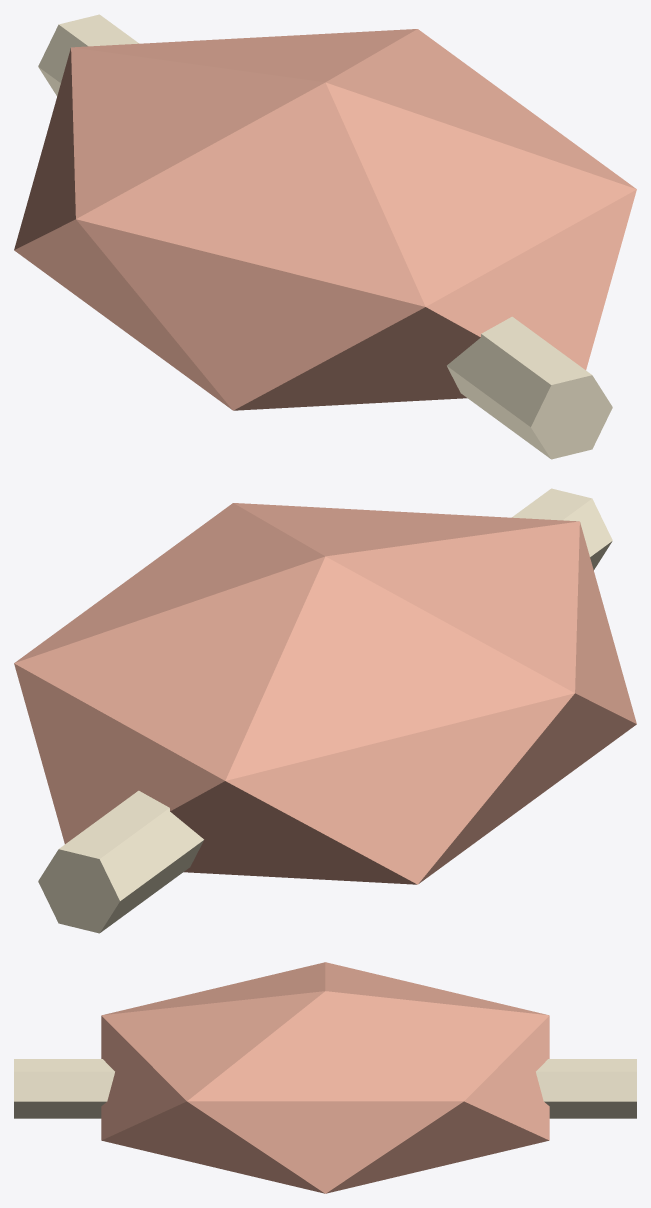
File: FishMeat.fbx
3 renders of one model, top to bottom at view 1: azimuth 30°, elevation 25°; view 2: azimuth 150°, elevation 25°; view 3: azimuth 270°, elevation 25°, orthographic. The views are drawn at different scales.
Visible parts, largest first — view 1: MeatChunk, Bone; view 2: MeatChunk, Bone; view 3: MeatChunk, Bone.
Part boxes in pixels (box(x1,y1,x2,y2)): MeatChunk: box(14, 29, 636, 410); Bone: box(38, 14, 612, 459); MeatChunk: box(14, 503, 636, 884); Bone: box(38, 488, 612, 933); MeatChunk: box(101, 962, 549, 1193); Bone: box(14, 1059, 636, 1118).
Size of the model in its own units: 0.3041 by 0.16 by 0.52.
